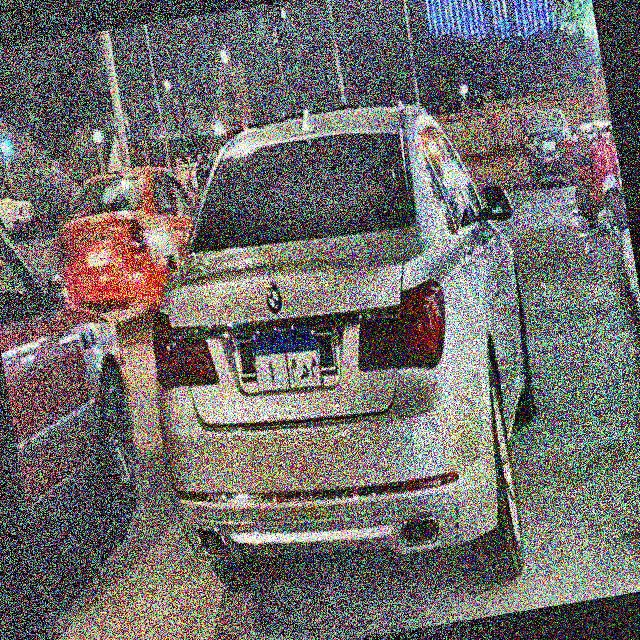License Plate: (247, 322, 327, 404)
